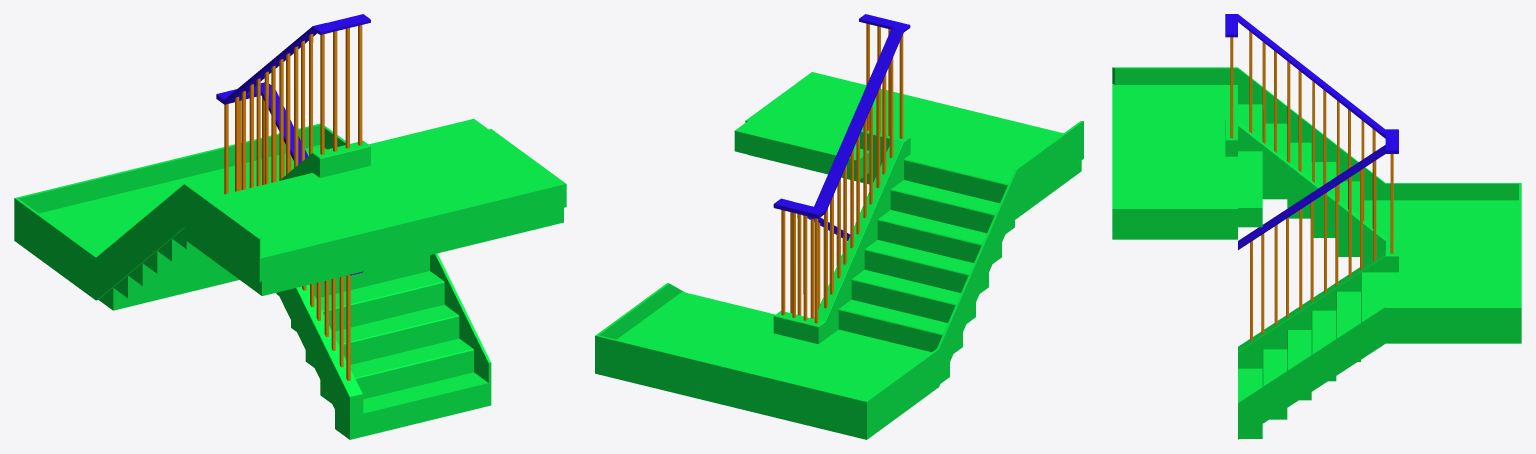
The model's file is Gold_Staircase_Unwrapped.FBX.
3 views of the same model, side by side, from view 1: azimuth 30°, elevation 25°; view 2: azimuth 150°, elevation 25°; view 3: azimuth 270°, elevation 25° (orthographic). The views are drawn at different scales.
Parts seen in each view (by area): view 1: Gold_Staircase; view 2: Gold_Staircase; view 3: Gold_Staircase.
Part boxes in pixels (x1=…): Gold_Staircase: x1=14, y1=14, x2=566, y2=439; Gold_Staircase: x1=595, y1=14, x2=1083, y2=439; Gold_Staircase: x1=1112, y1=14, x2=1521, y2=439.
Size of the model in its own units: 41.72 by 54.93 by 57.69.
